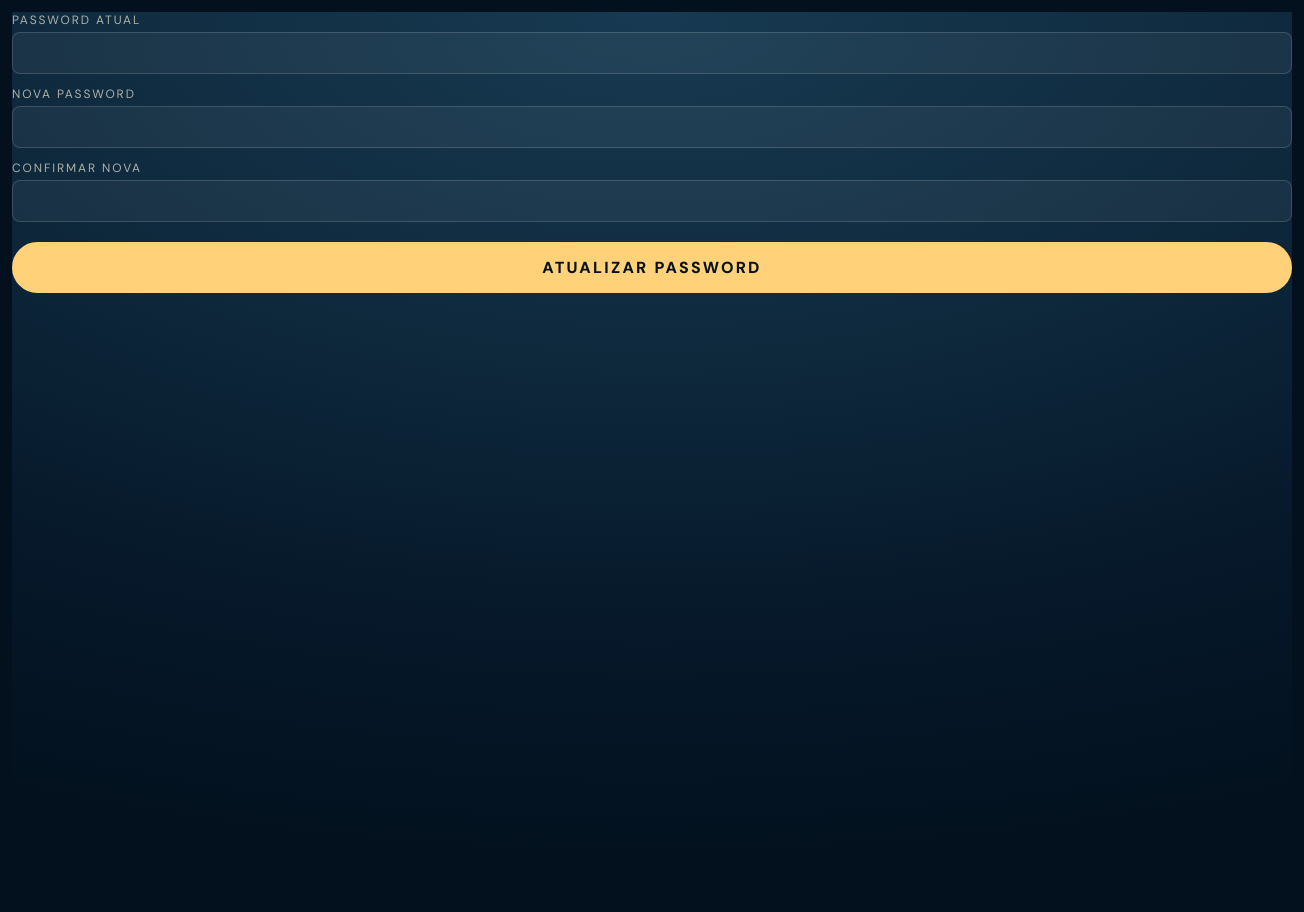
AccountForm › erro: nova password < 10 chars
Type "old-password-123" into the password field labelled "Password atual" at coordinates (652, 53), box [12,32,1292,74]
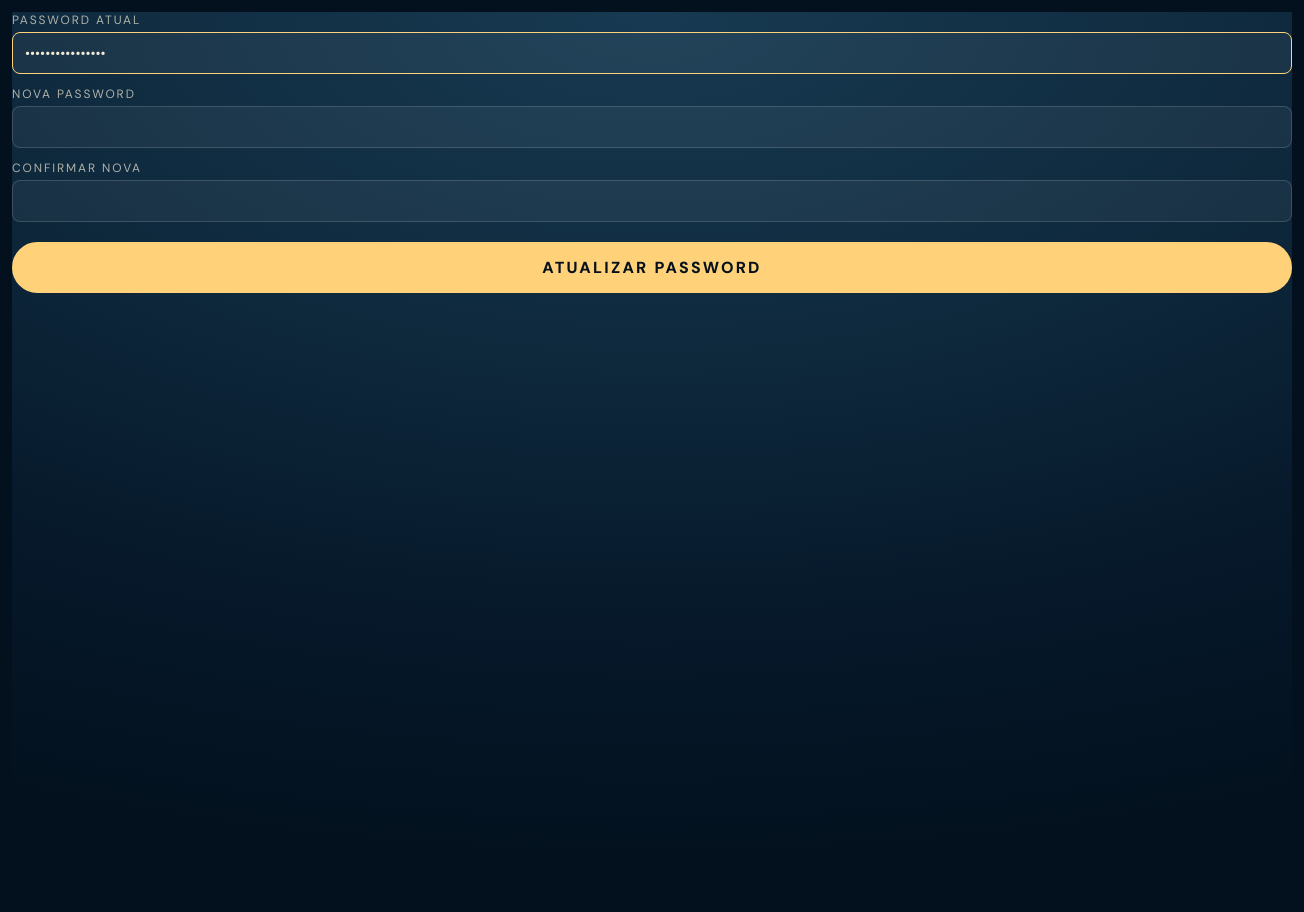
Type "short" into the password field labelled "Nova password" at coordinates (652, 127), box [12,106,1292,148]
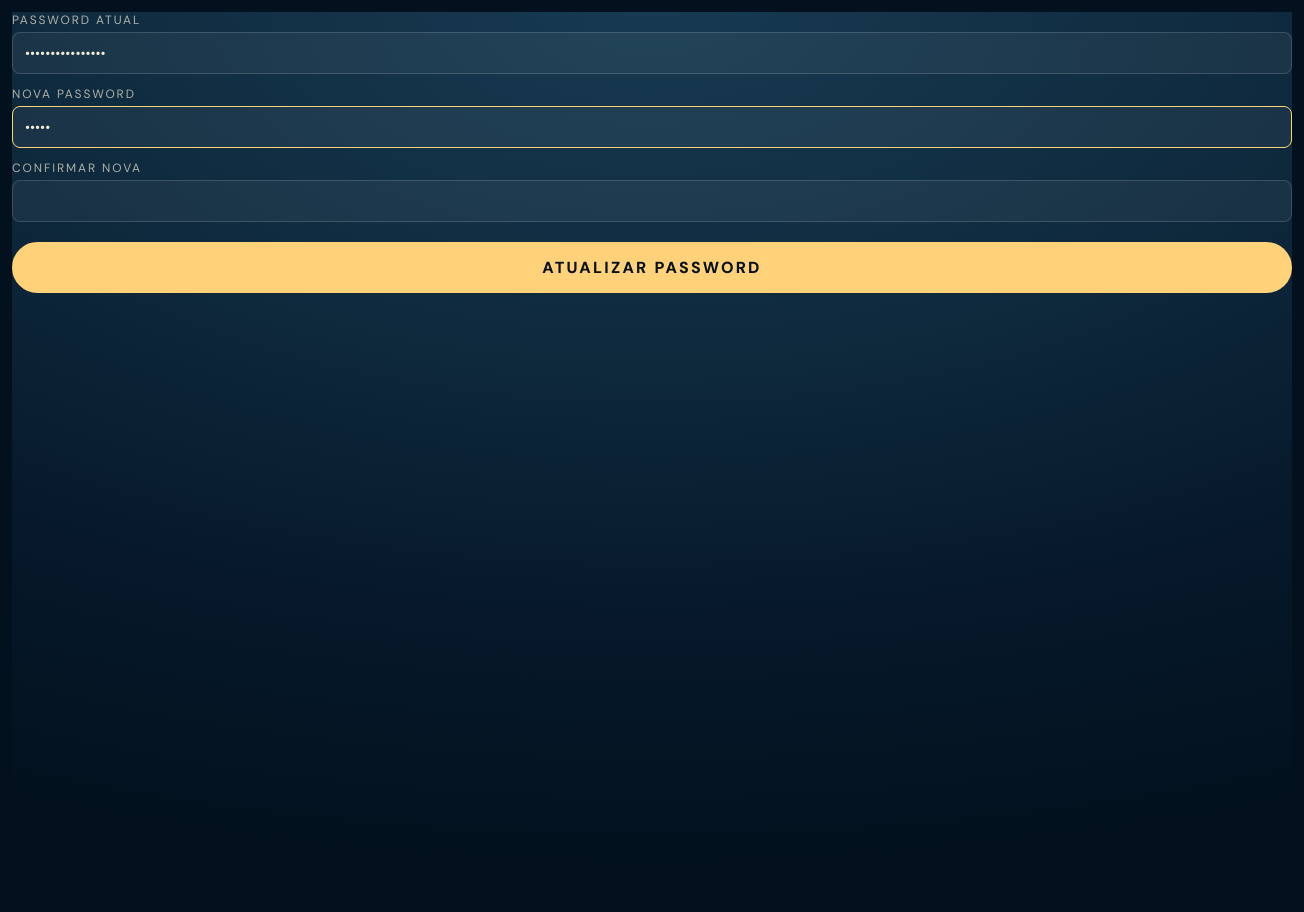
Type "short" into the password field labelled "Confirmar nova" at coordinates (652, 201), box [12,180,1292,222]
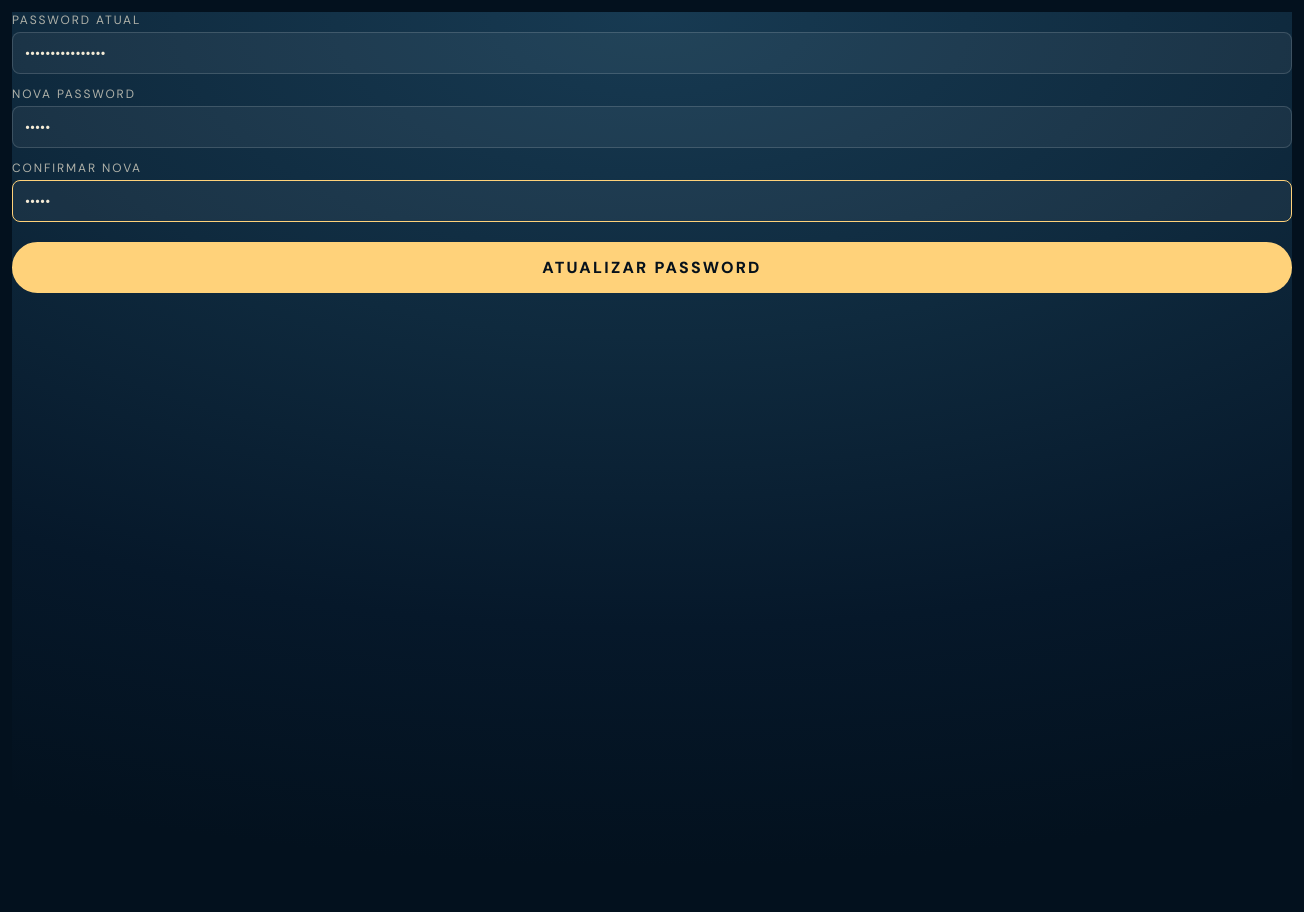
Click the button "ATUALIZAR PASSWORD" at coordinates (652, 268), box [12,242,1292,293]
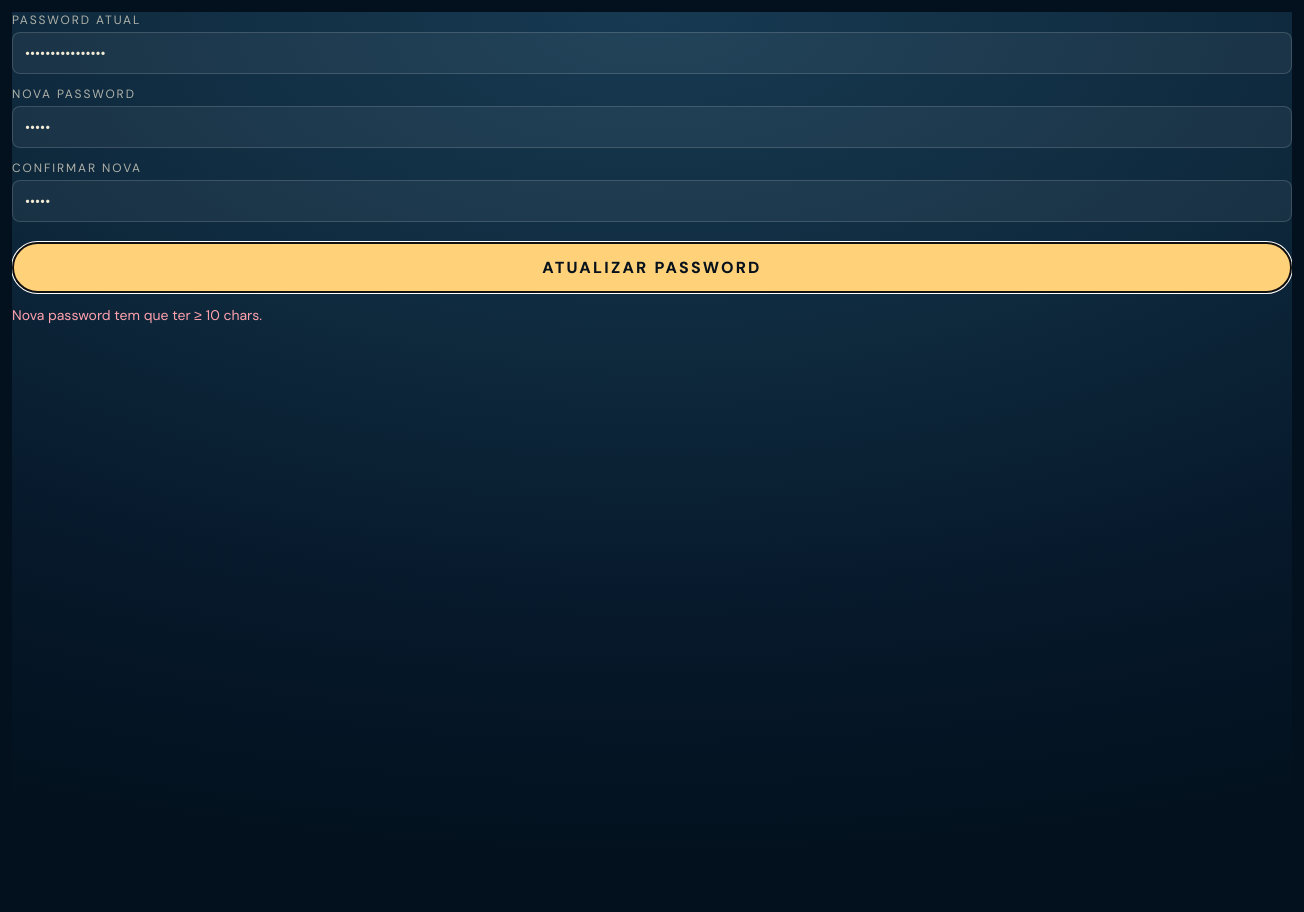
Now the message shows "≥ 10 chars", box [12,306,262,324]
